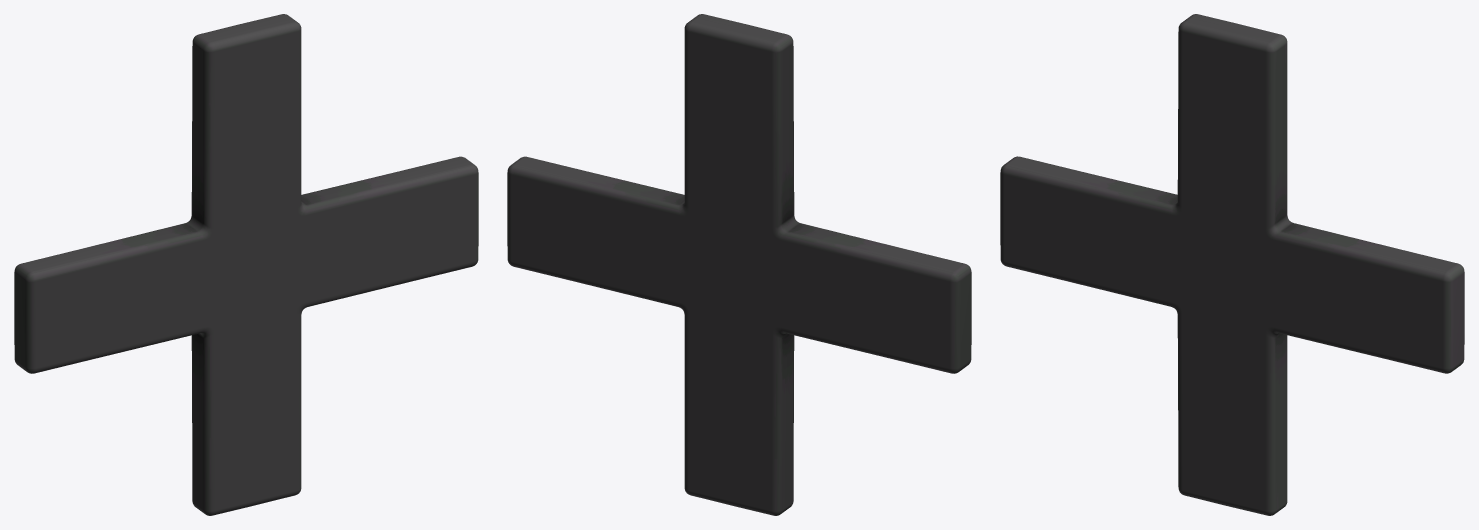
Rendered from Addition.fbx.
3 views of the same model, side by side, from view 1: azimuth 30°, elevation 25°; view 2: azimuth 150°, elevation 25°; view 3: azimuth 330°, elevation 25° (orthographic).
Visible parts, largest first — view 1: node_id30; view 2: node_id30; view 3: node_id30.
Part boxes in pixels (x1=…): node_id30: x1=14, y1=14, x2=478, y2=515; node_id30: x1=507, y1=14, x2=971, y2=515; node_id30: x1=1000, y1=14, x2=1464, y2=515.
Bounding box in the file's own units: 0.512 × 0.512 × 0.0344.
1 material, 1 textured.
